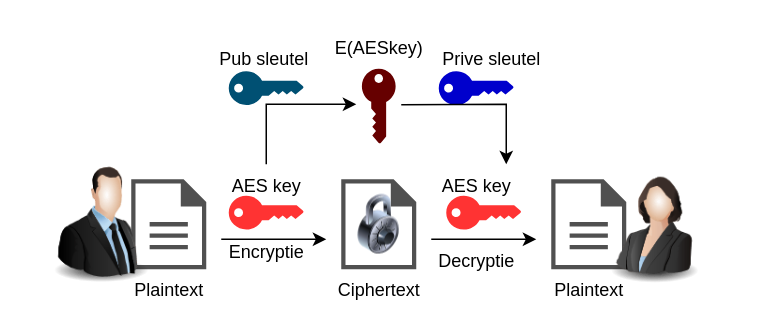
Some shapes in this 771 by 326 pixel diagram are drawn without their labels. The centre of each missing label's shape, as x and y in pixels:
"john" belongs at point (100, 224).
"kate" belongs at point (656, 224).
